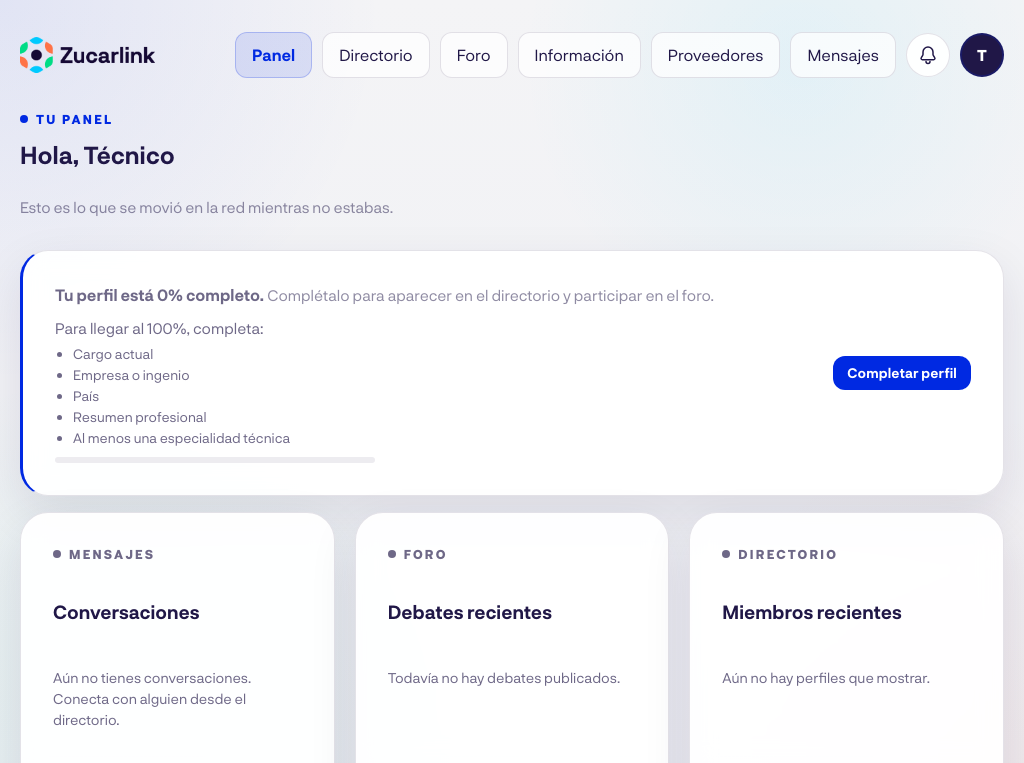
it: shows the empty state when there are no notifications
Click the button named "Notificaciones". click: point(928, 55)
box: [906,33,950,77]
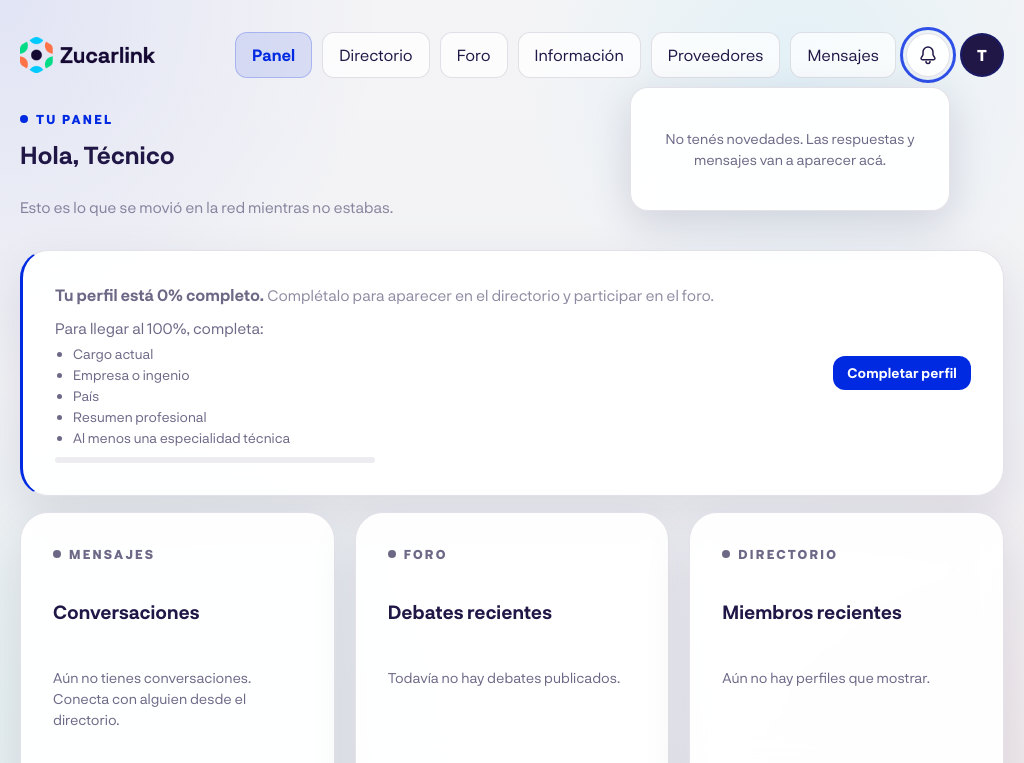
Result: the text "No tenés novedades. Las respuestas y mensajes van a aparecer acá." is shown at [651,128,929,170]
